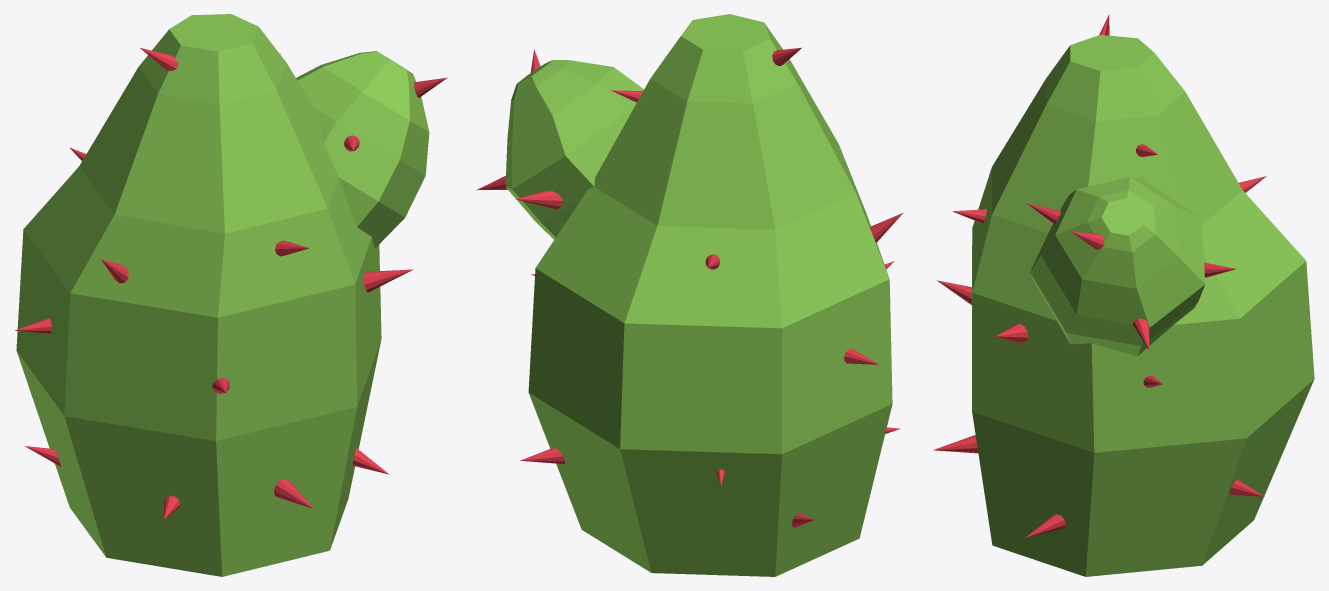
Rendered from Cactus2.fbx.
3 views of the same model, side by side, from view 1: azimuth 30°, elevation 25°; view 2: azimuth 150°, elevation 25°; view 3: azimuth 270°, elevation 25° (orthographic). The views are drawn at different scales.
Visible parts, largest first — view 1: Desert.089; view 2: Desert.089; view 3: Desert.089.
Boxes of the visible parts, x1,y1,x2,y2 form: Desert.089: [15, 14, 447, 576]; Desert.089: [476, 14, 902, 576]; Desert.089: [933, 15, 1314, 576].
Size of the model in its own units: 1.36 by 1.57 by 1.15.
